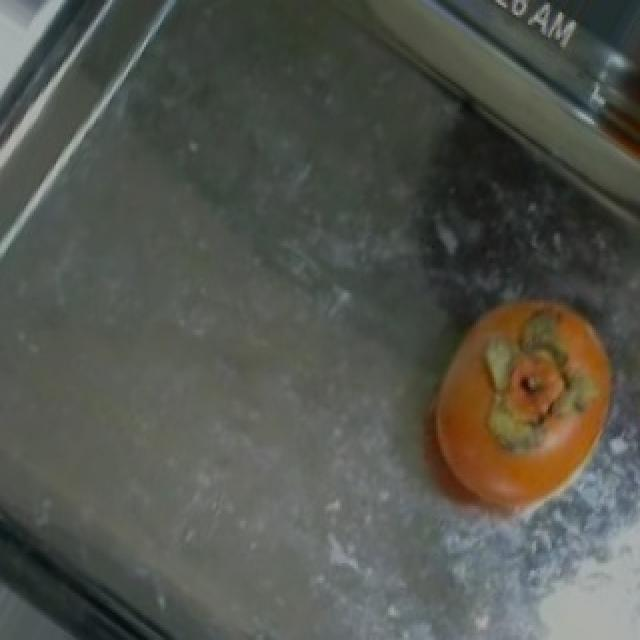Fruit: (404, 278, 634, 543)
